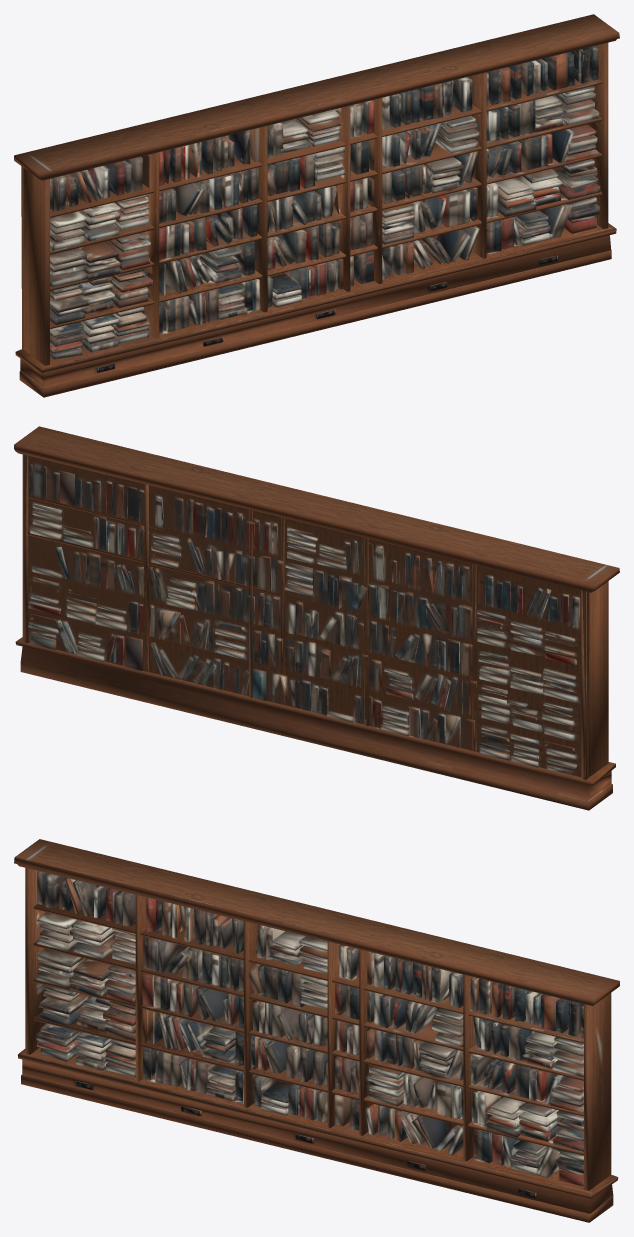
Rendered from interior-bookcase.glb.
3 views of the same model, one above another, from view 1: azimuth 30°, elevation 25°; view 2: azimuth 150°, elevation 25°; view 3: azimuth 330°, elevation 25° (orthographic).
Size of the model in its own units: 0.9575 by 0.3564 by 0.0742.
1 material, 1 textured.
